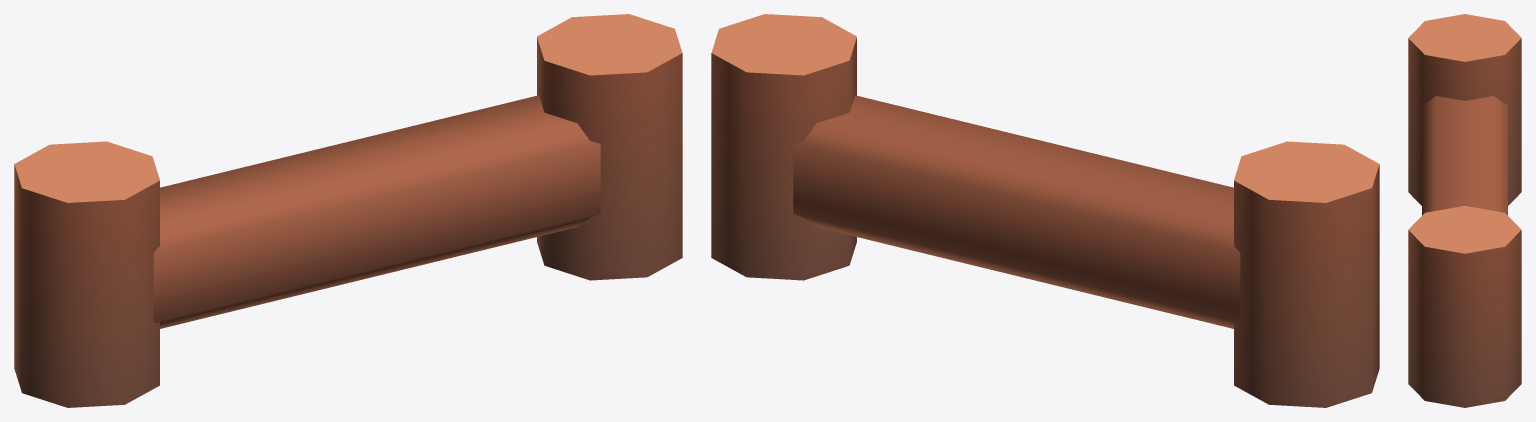
Rendered from kenney-platformer-fence-low-straight.glb.
The picture shows the model from 3 angles, left to right: view 1: azimuth 30°, elevation 25°; view 2: azimuth 150°, elevation 25°; view 3: azimuth 270°, elevation 25°; orthographic projection. The views are drawn at different scales.
Parts seen in each view (by area): view 1: fence-low-straight; view 2: fence-low-straight; view 3: fence-low-straight.
Boxes of the visible parts, x1=… form: fence-low-straight: x1=14, y1=14, x2=682, y2=407; fence-low-straight: x1=711, y1=14, x2=1379, y2=407; fence-low-straight: x1=1408, y1=14, x2=1521, y2=407.
Size of the model in its own units: 1 by 0.3 by 0.2.
Materials: 1 (1 with a texture image).
